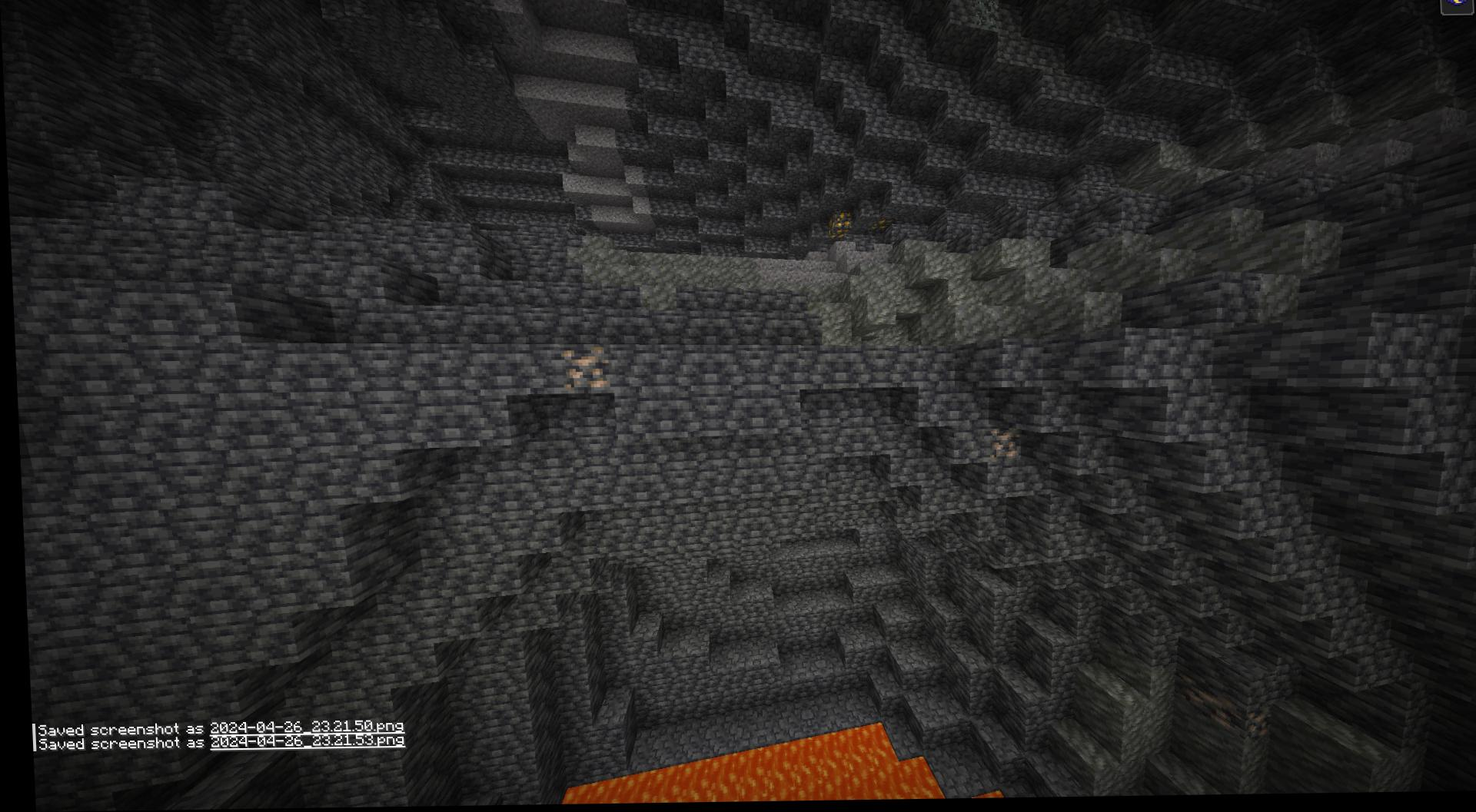gold ore: (823, 209, 850, 243)
iron ore: (1171, 679, 1265, 749), (559, 348, 608, 393), (979, 425, 1018, 468)
